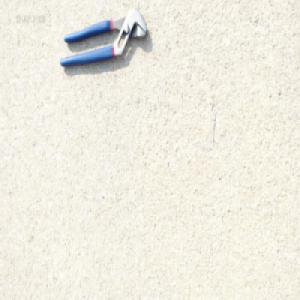Pliers: (59, 7, 148, 69)
